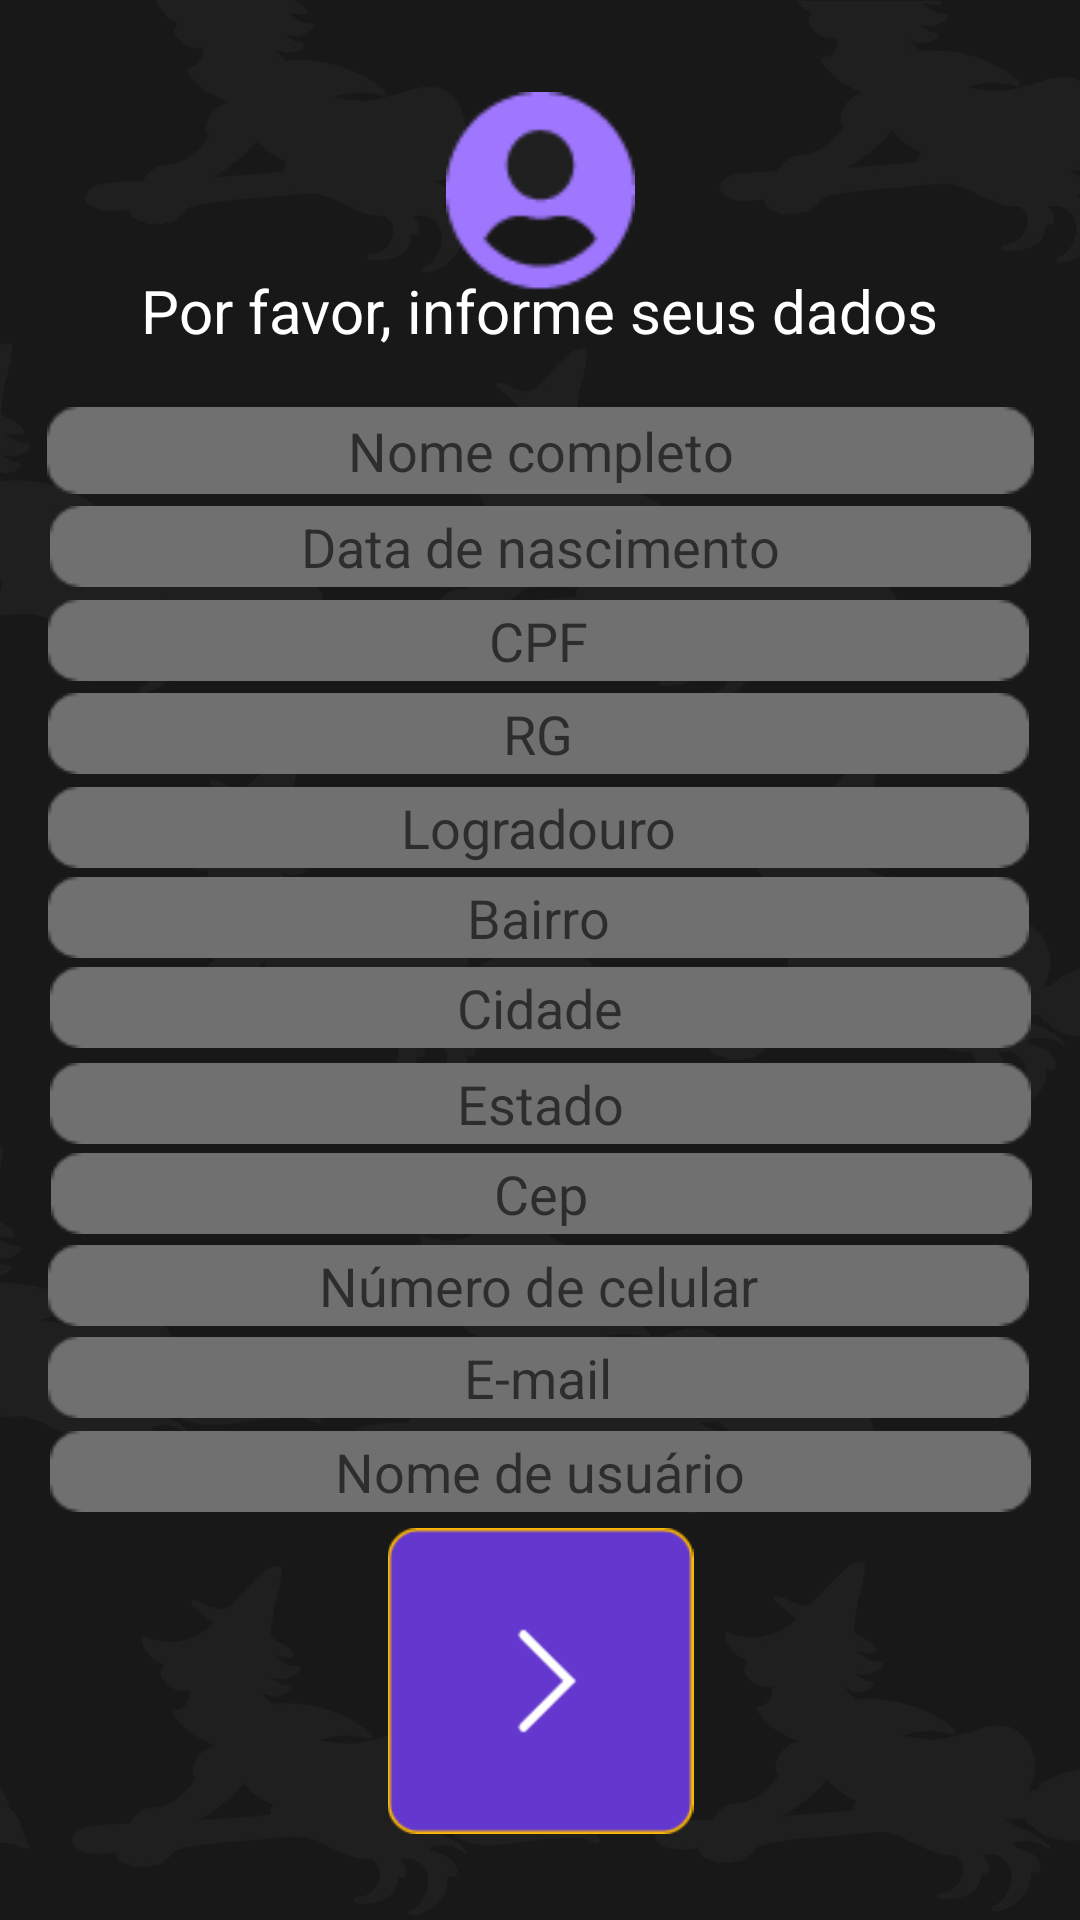

Icon bounding boxes for this 1080w x 1920h phone screenshot, format (x1, y1, x2, y2):
person: (446, 92, 635, 290)
